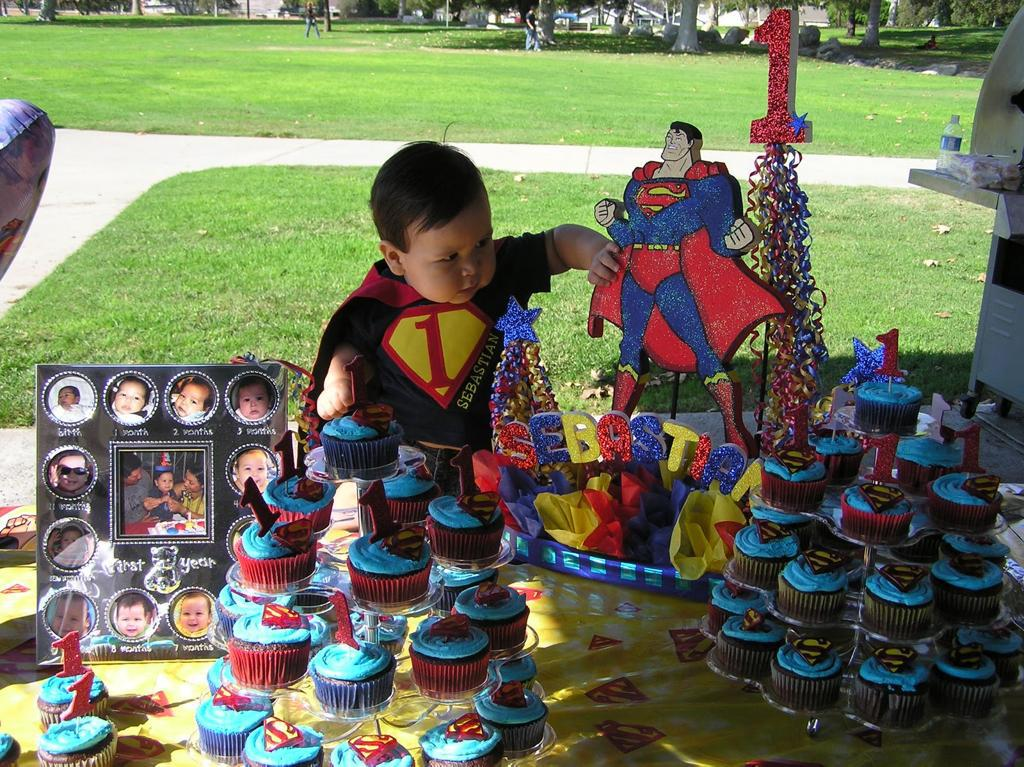face: (402, 202, 497, 306), (53, 599, 86, 639), (175, 383, 206, 418), (240, 451, 268, 489), (57, 455, 85, 491), (115, 380, 145, 413), (240, 384, 267, 420), (182, 599, 208, 633), (118, 607, 144, 637), (63, 530, 81, 553), (185, 471, 200, 492), (59, 389, 76, 407), (159, 473, 175, 492), (128, 468, 142, 485)
